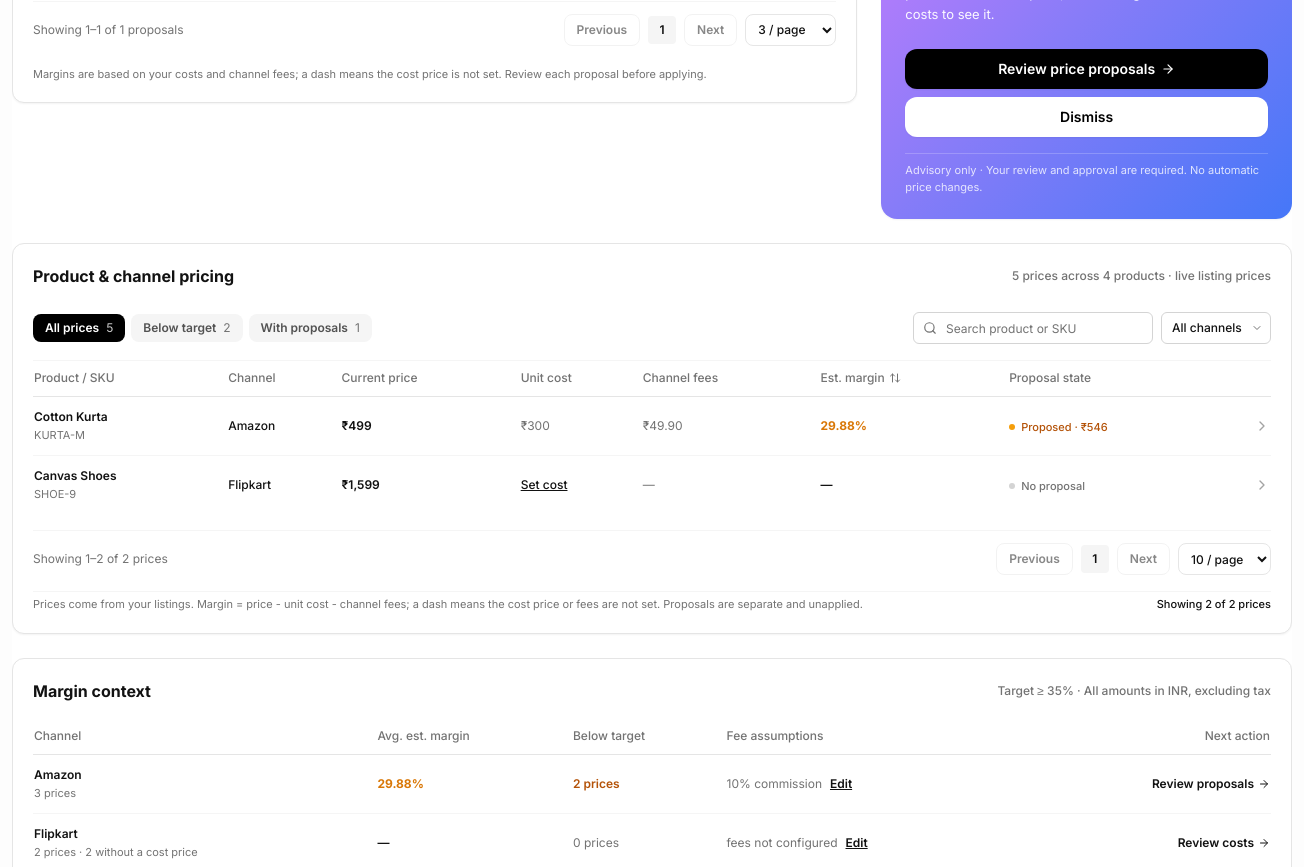
Pricing overview tab (real data) › opens the proposals tab for a proposed price and for a channel's margin row
The image size is (1304, 867).
(page scrolled)
What coordinates should you click on to do the following:
click the 3rd row
I would click on:
 (652, 426)
Its box is [33, 396, 1271, 456].
(page scrolled)
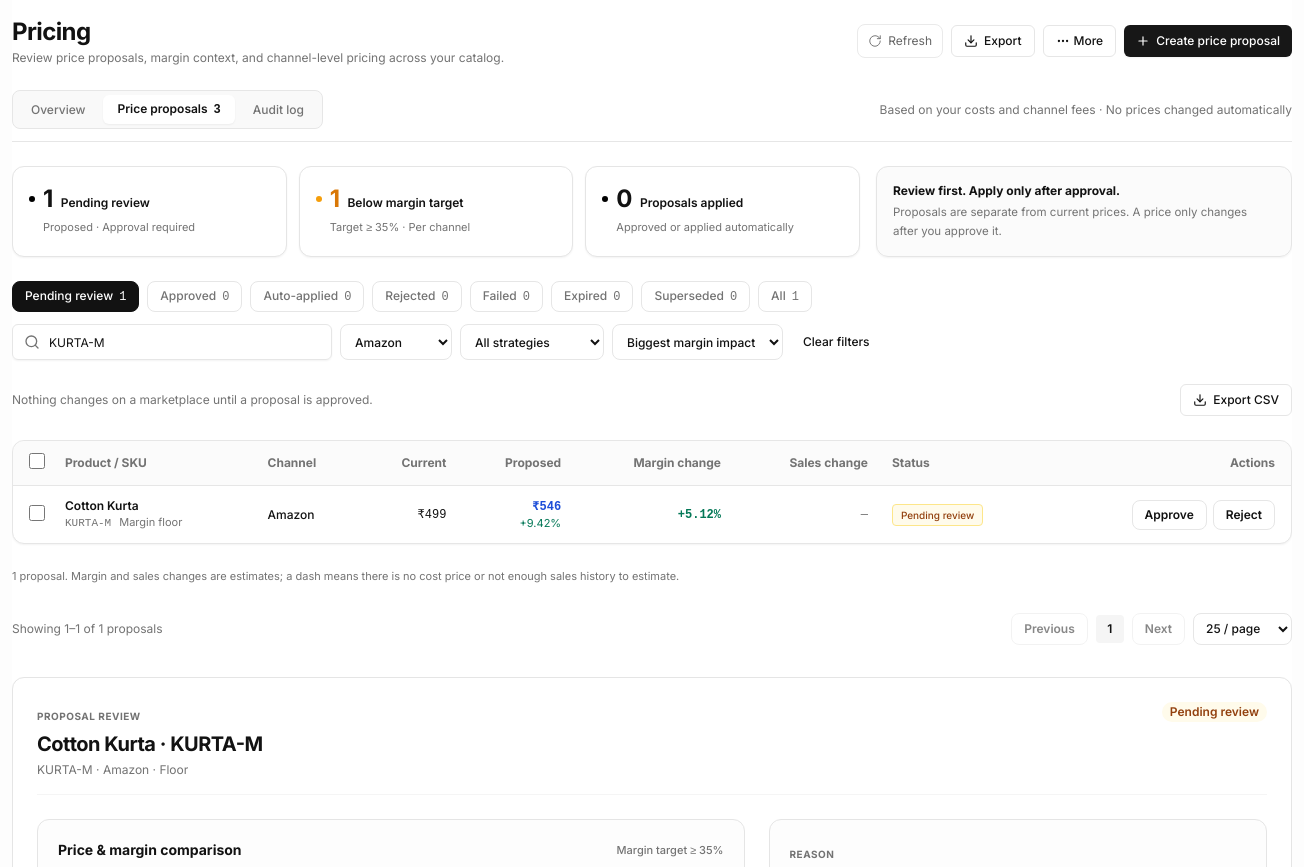
Expected: the text "KURTA-M" is shown, [65, 517, 111, 529]
